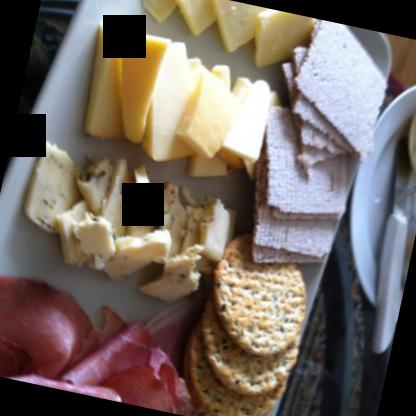cookie: (197, 234, 316, 364), (182, 306, 301, 401), (166, 340, 289, 415)
parmesan cheese: (124, 30, 210, 167), (100, 28, 173, 149), (78, 18, 144, 144), (172, 70, 250, 162), (242, 5, 320, 80), (198, 0, 285, 60), (149, 0, 232, 41), (116, 0, 180, 23)
